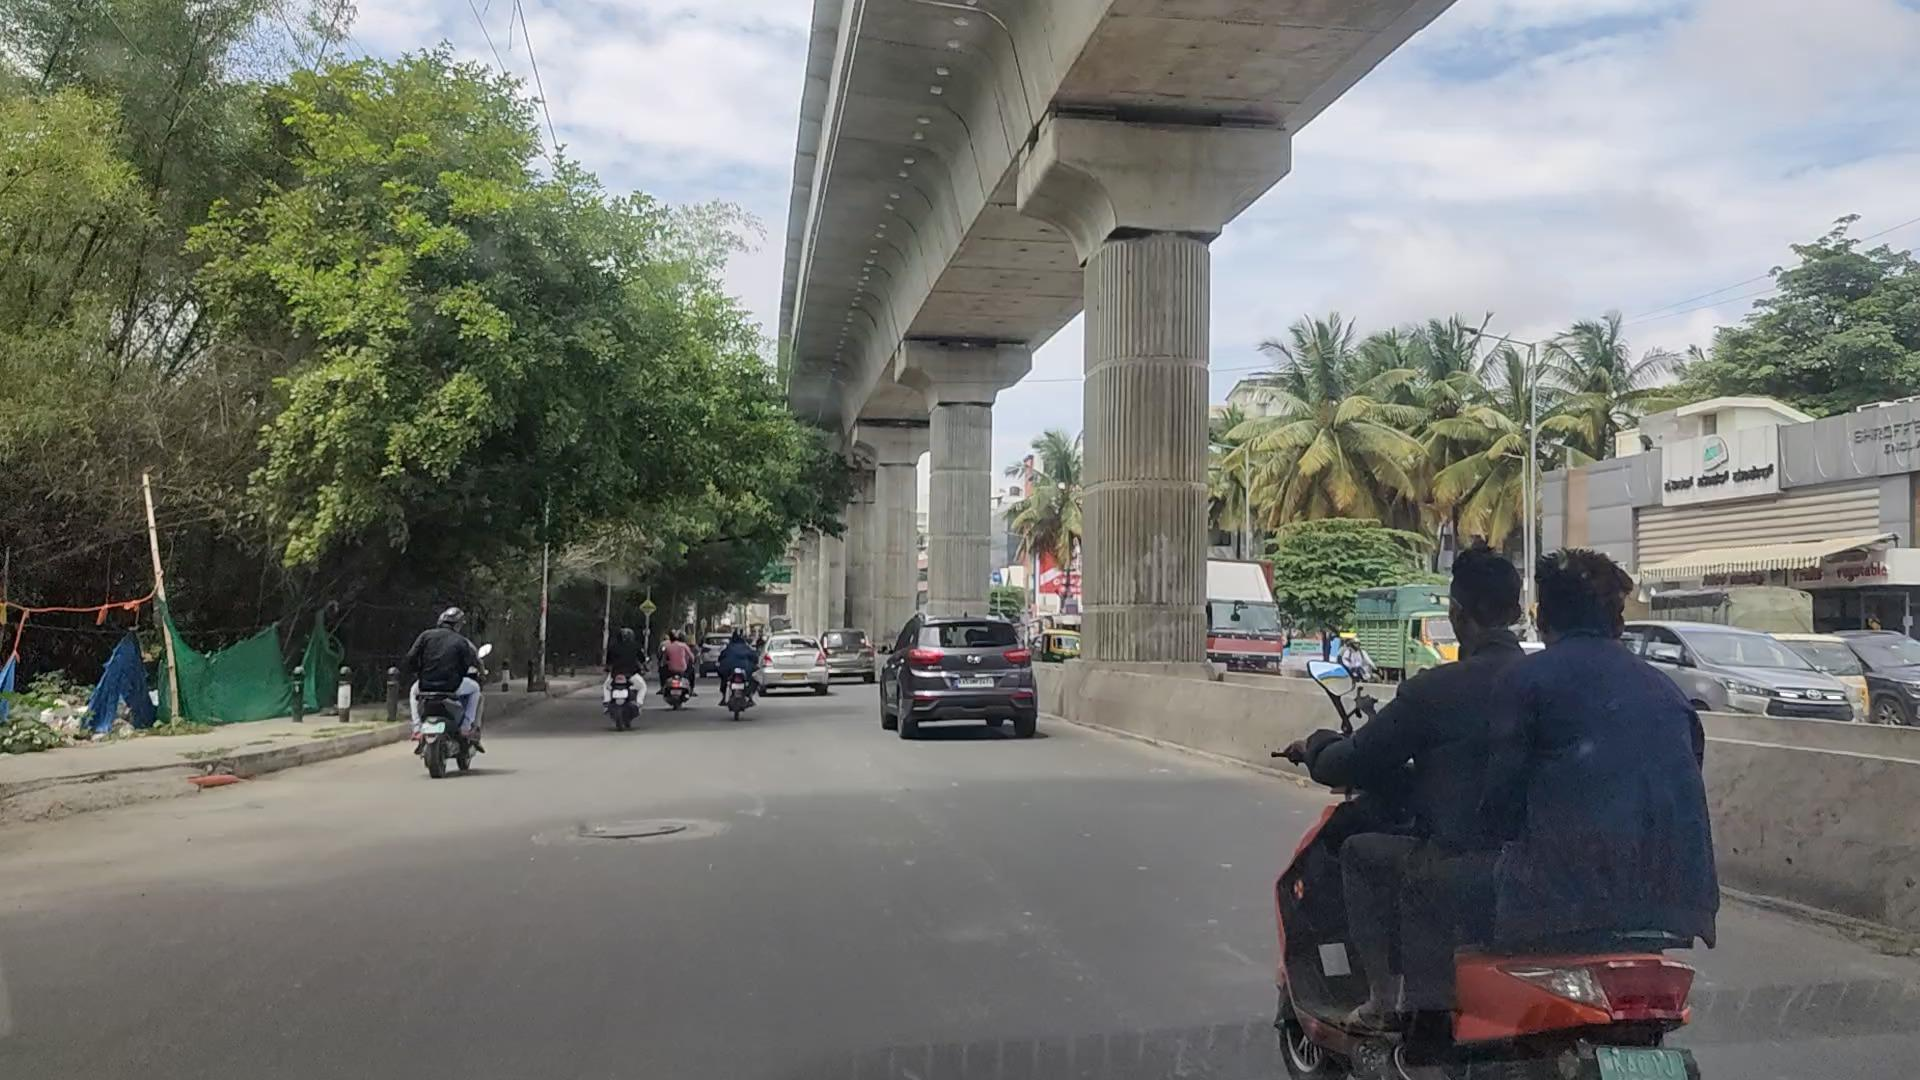LMV: (1276, 525, 1693, 1080), (878, 617, 1051, 752), (404, 589, 484, 791), (717, 621, 770, 728), (601, 618, 649, 737)
RoadDamages: (568, 799, 727, 848)
